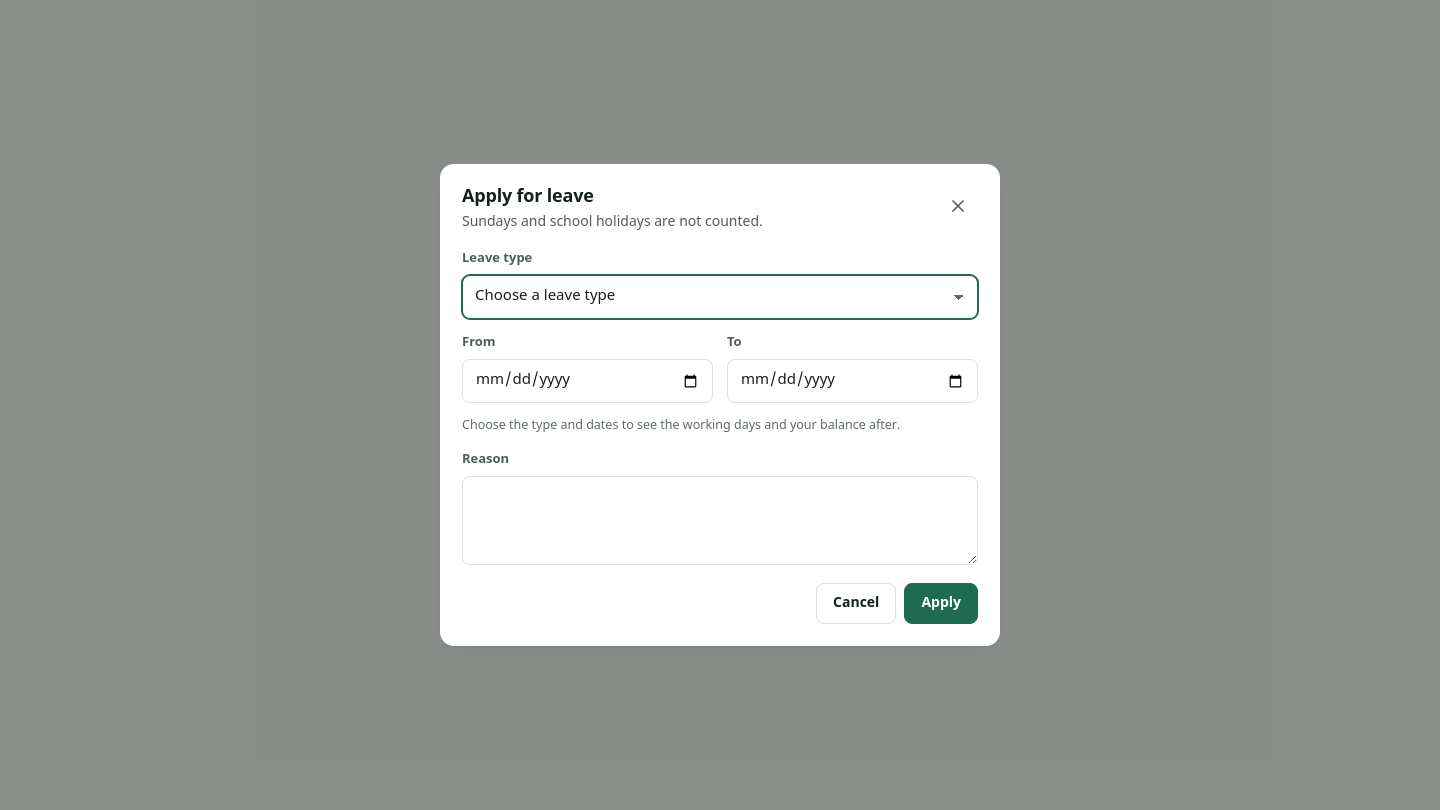
Test: ApplyLeaveDialog › shows what is missing instead of sending an incomplete request
The width and height of the screenshot is (1440, 810).
Step 1. Click the button "Apply" → (941, 604), box [904,583,978,624]
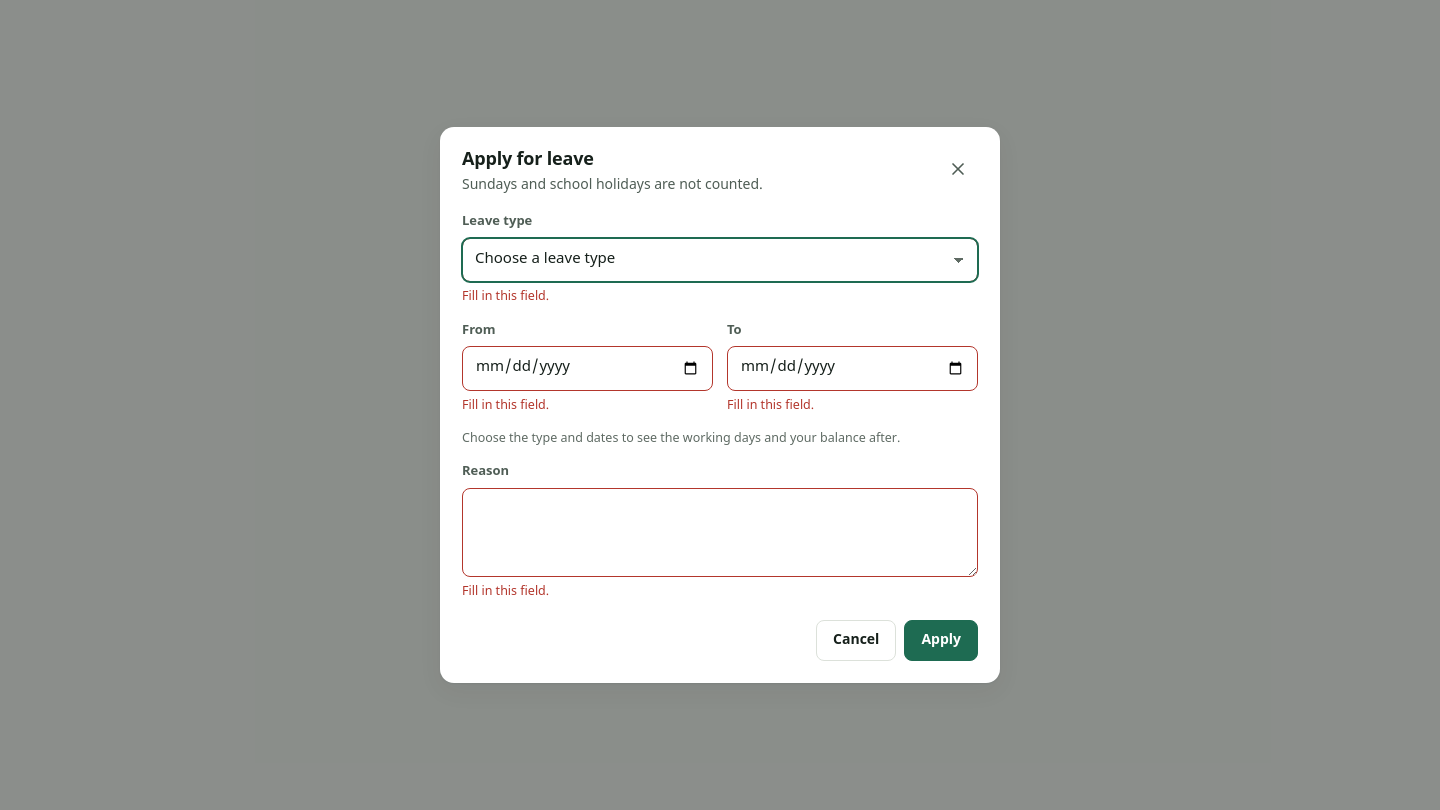
Now the text "Fill in this field." is shown 4 times, box [462,289,549,305]; [462,398,549,414]; [727,398,814,414]; [462,584,549,600]
